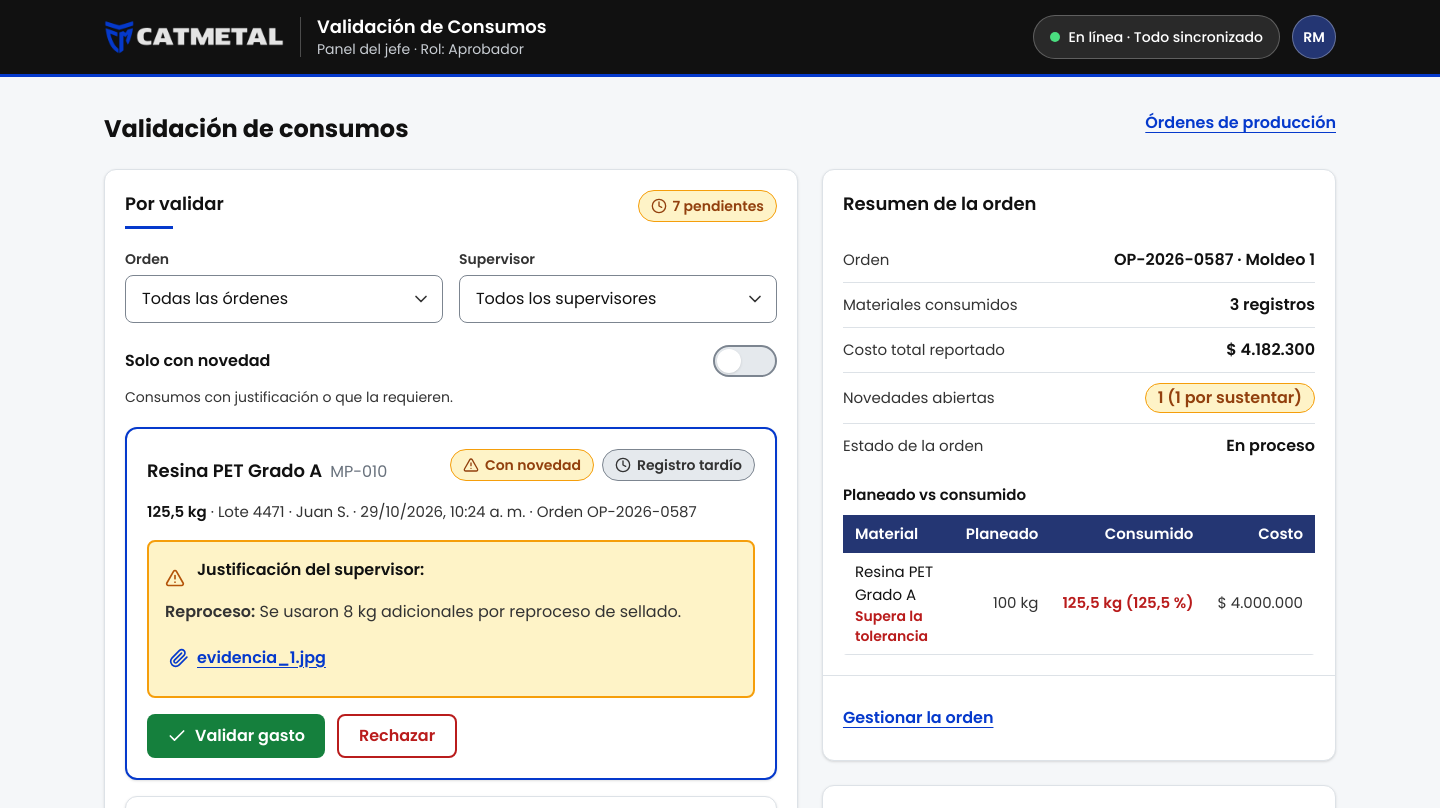
it: cola de validación › muestra el contador, las tarjetas del Figma y filtra por orden y novedad
Expected: the heading "Validación de consumos" is shown, [104,113,408,145]
Expected: the header shows "Validación de Consumos", [317,14,547,39]
Step 1. Select "Orden OP-2026-0600" in the dropdown labelled "Orden" → coordinates (284, 299), box [125,275,443,323]
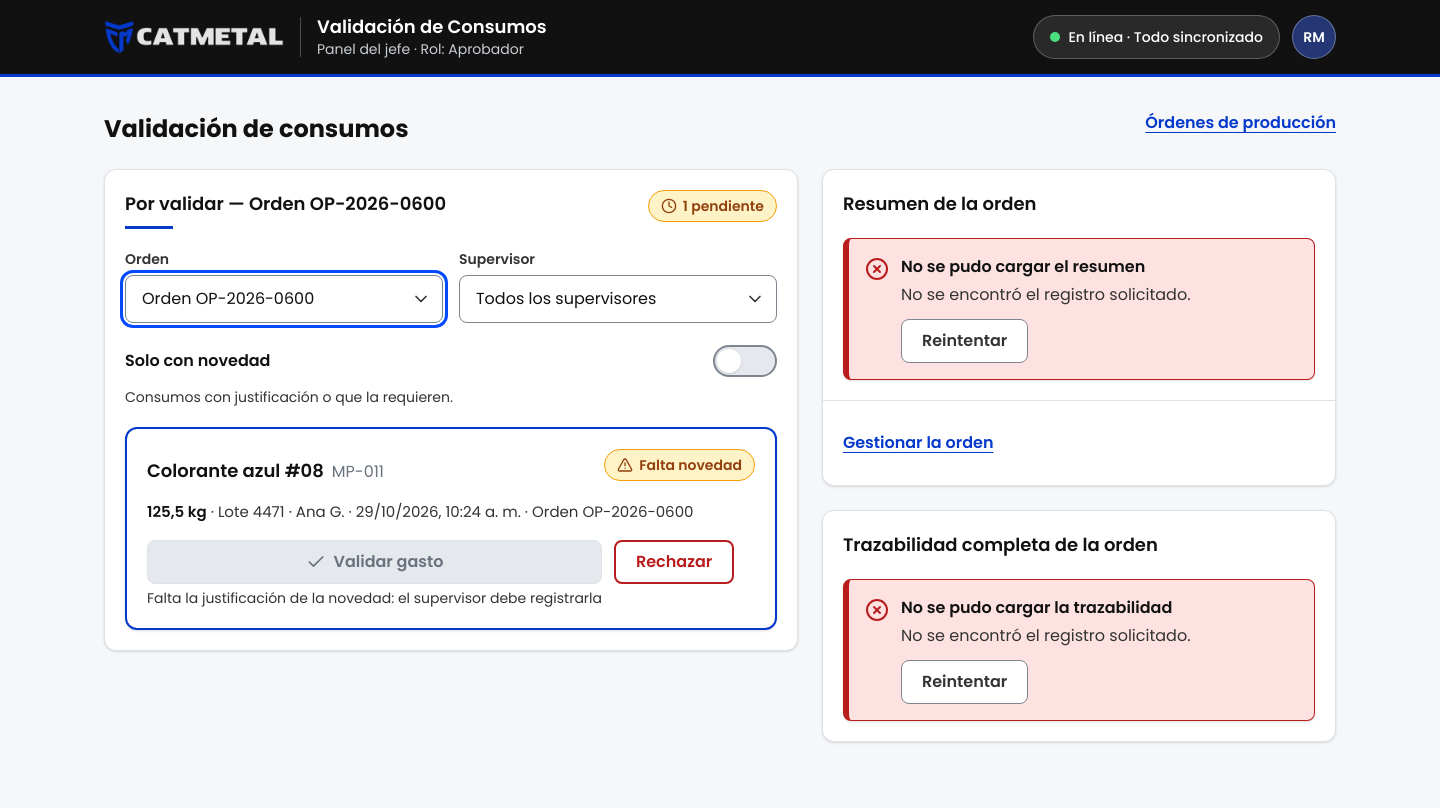
Expected: the heading "Por validar — Orden OP-2026-0600" is shown, [125,190,446,218]
Expected: the button "Resina PET" is gone
Step 2. Select "Todas las órdenes" in the dropdown labelled "Orden" → coordinates (284, 299), box [125,275,443,323]
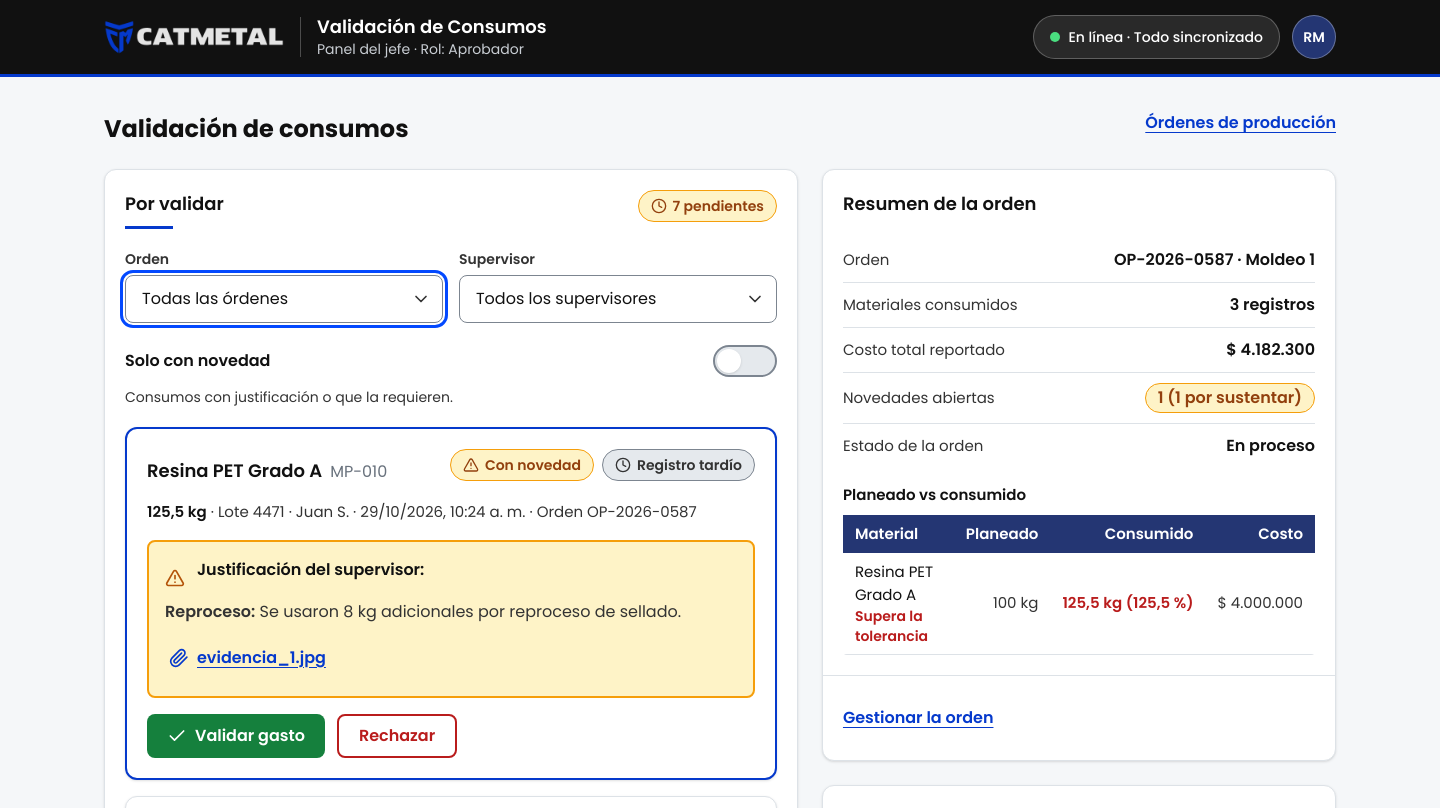
Step 3. Click the switch named "Solo con novedad" → coordinates (745, 361), box [713,339,777,383]
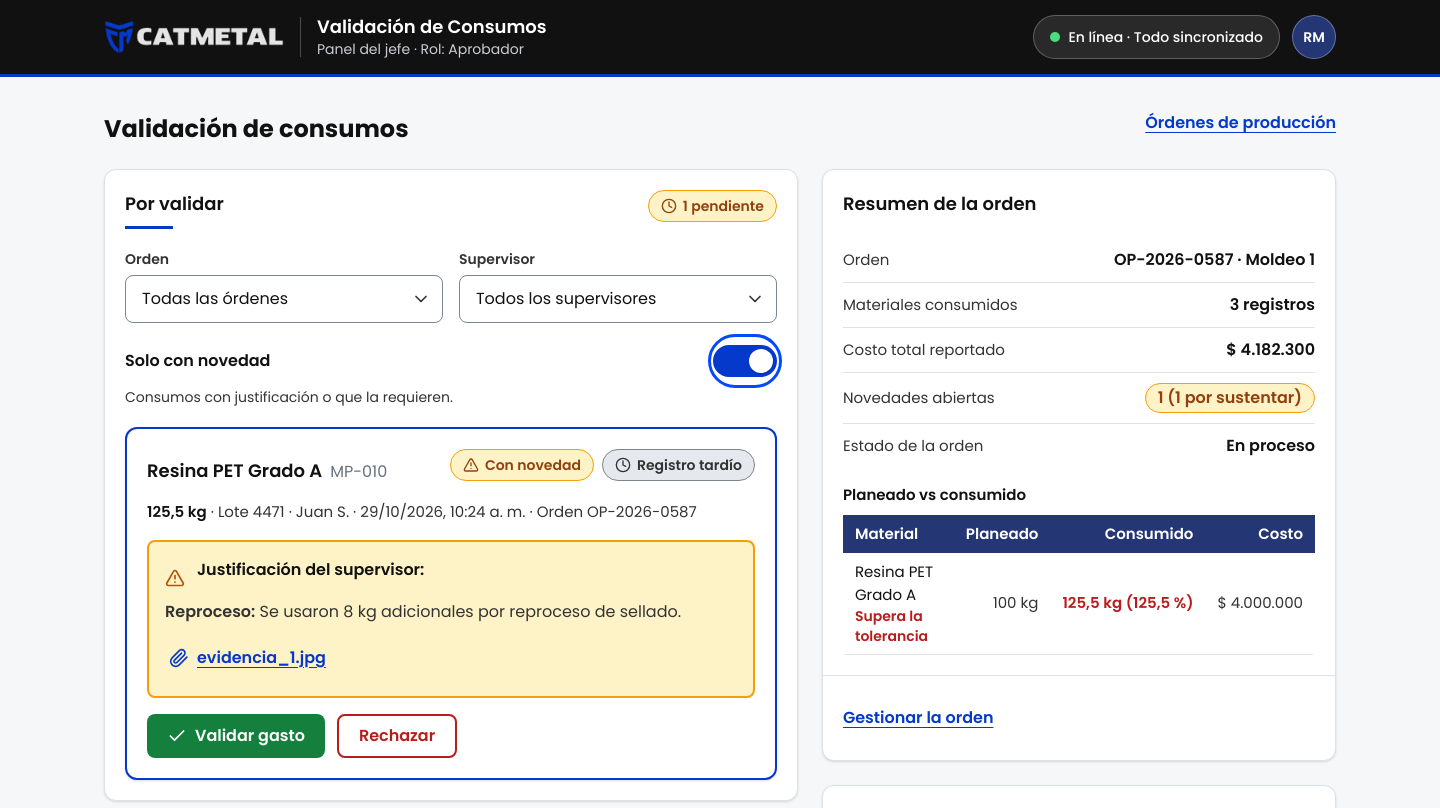
Expected: the text "1 pendiente" is shown, [683,196,764,216]
